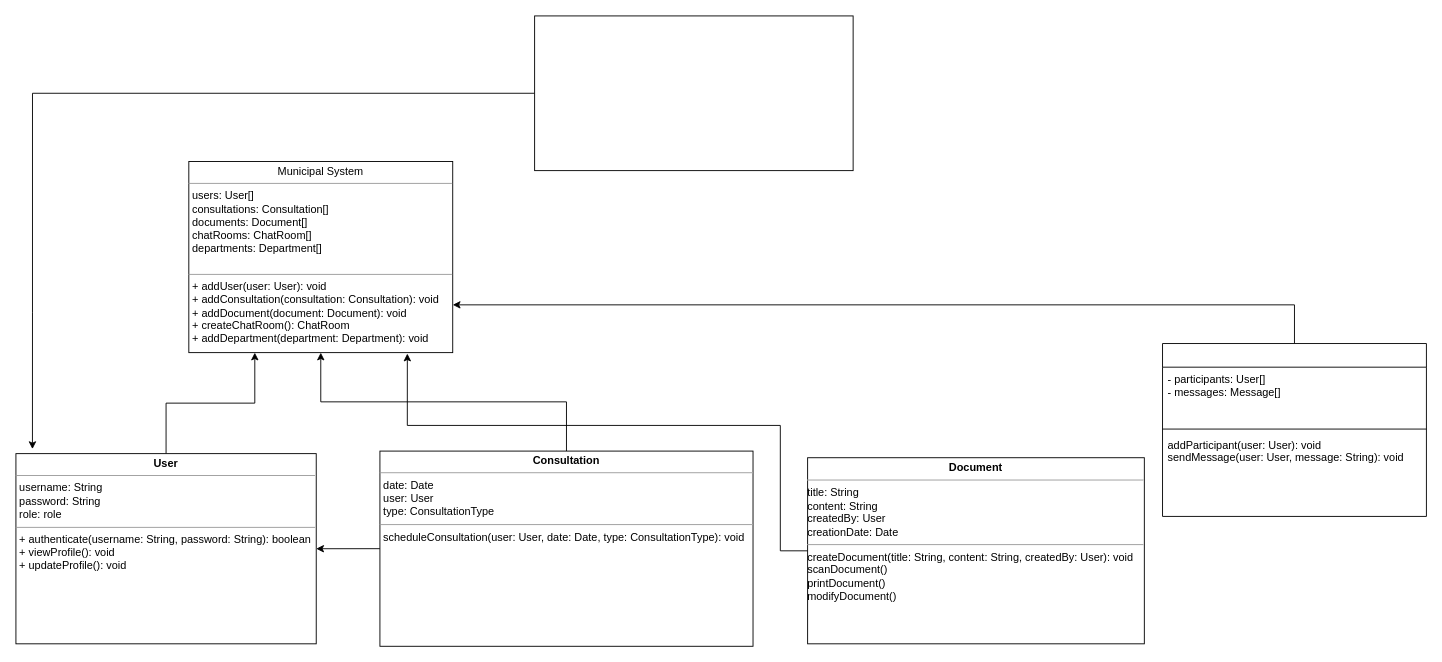
Image size: 1442x662. Some labels were removed from this diagram. Each missing label, with the box of its shape:
ChatRoom: (1162, 343, 1426, 516)
Department name: String employees: User[] addEmployee(employee: User): void: (534, 15, 853, 171)
